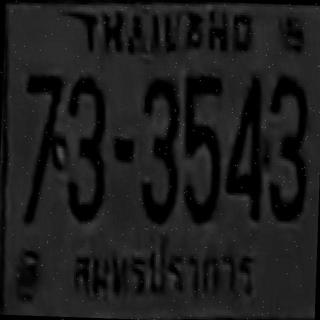N03: (264, 74, 308, 219), (63, 75, 107, 220), (138, 76, 180, 222)
N04: (224, 74, 264, 219)
N05: (180, 75, 222, 221), (182, 73, 222, 161)
N07: (20, 72, 64, 222), (22, 72, 64, 172), (23, 72, 63, 160)
P57: (66, 234, 258, 305)
